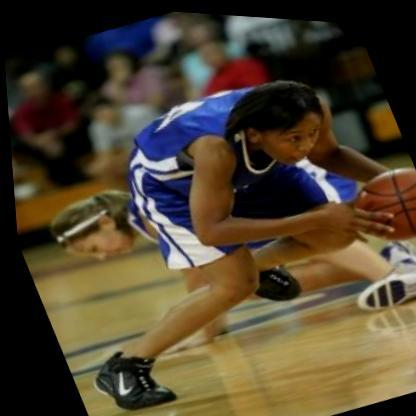basketball: (340, 152, 416, 249)
